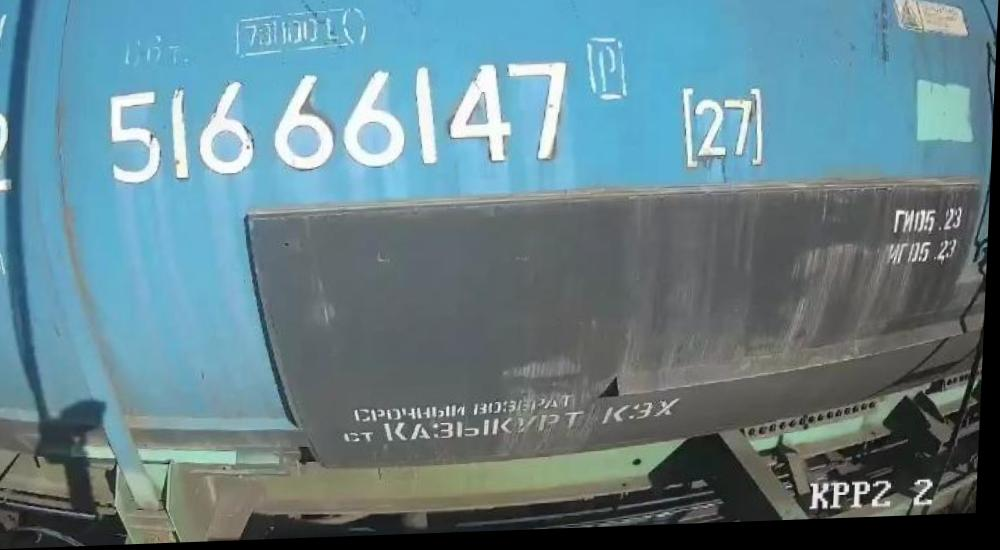Wagon-number: (99, 61, 580, 194)
